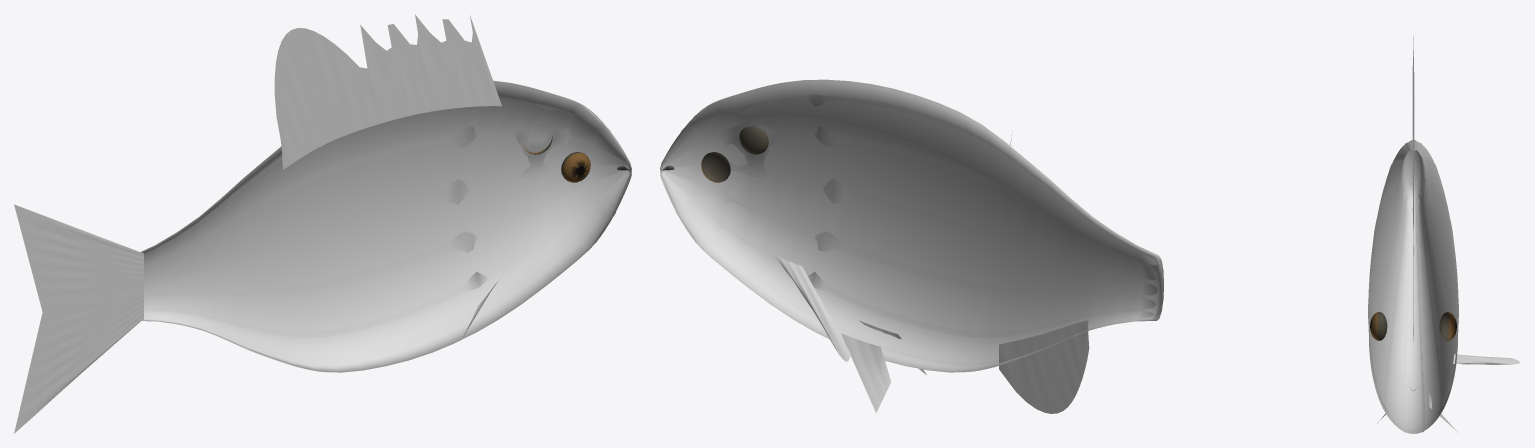
The model's file is bluegill.glb.
3 views of the same model, side by side, from view 1: azimuth 30°, elevation 25°; view 2: azimuth 150°, elevation 25°; view 3: azimuth 270°, elevation 25° (orthographic). The views are drawn at different scales.
Visible parts, largest first — view 1: BodyLow, Fins, Body, Eyes; view 2: BodyLow, Body, Fins, Eyes; view 3: BodyLow, Body, Fins, Eyes.
Boxes of the visible parts, <box> form: BodyLow: <box>134,80,631,372</box>; Fins: <box>14,14,501,433</box>; Body: <box>140,81,631,372</box>; Eyes: <box>523,136,590,182</box>; BodyLow: <box>660,79,1163,372</box>; Body: <box>660,80,1163,372</box>; Fins: <box>773,130,1089,413</box>; Eyes: <box>701,126,768,182</box>; BodyLow: <box>1368,140,1458,432</box>; Body: <box>1368,141,1458,433</box>; Fins: <box>1377,36,1520,432</box>; Eyes: <box>1370,312,1456,340</box>.
Size of the model in its own units: 0.4852 by 0.2923 by 0.1615.
